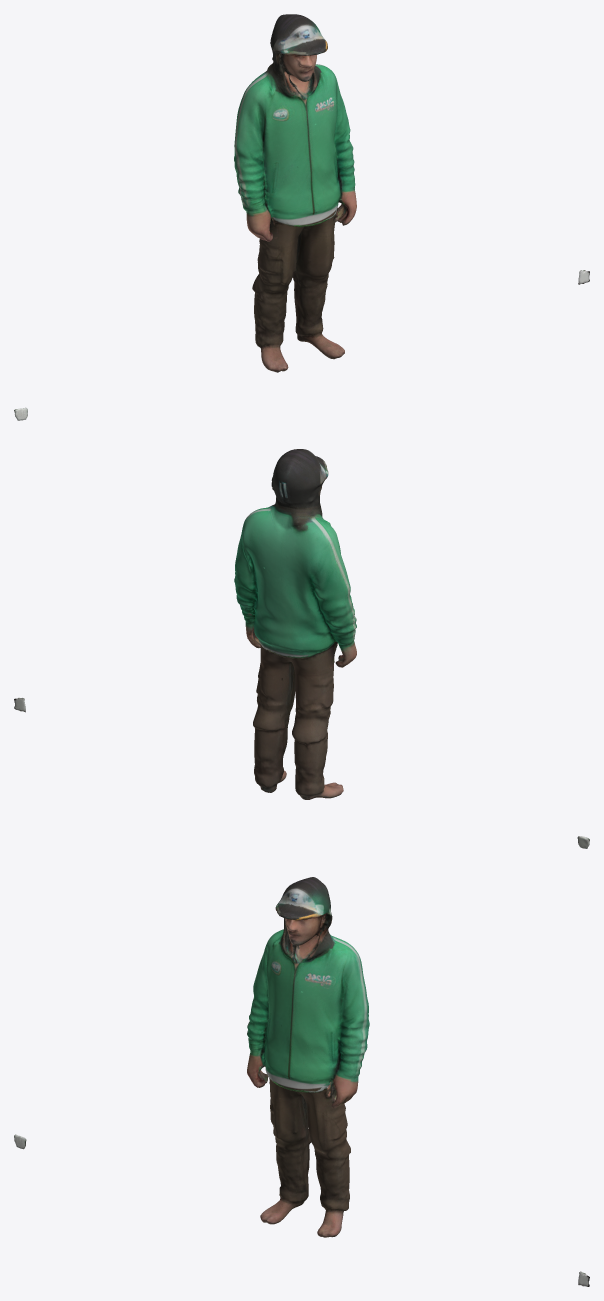
Rendered from Meshy_AI_Grab_Delivery_Rider_0531163515_texture.fbx.
3 views of the same model, one above another, from view 1: azimuth 30°, elevation 25°; view 2: azimuth 150°, elevation 25°; view 3: azimuth 330°, elevation 25° (orthographic).
Visible parts, largest first — view 1: Mesh_0; view 2: Mesh_0; view 3: Mesh_0.
Boxes of the visible parts, x1,y1,x2,y2 form: Mesh_0: [14, 14, 589, 420]; Mesh_0: [14, 449, 589, 848]; Mesh_0: [14, 877, 589, 1286].
Bounding box in the file's own units: 200 × 113 × 23.6.
Materials: 1 (1 with a texture image).
